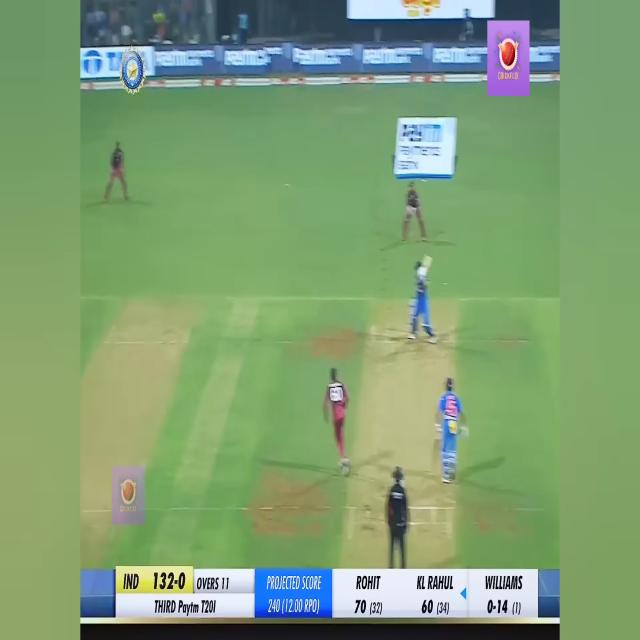fully_visible: (400, 113, 444, 150), (177, 591, 199, 620)
